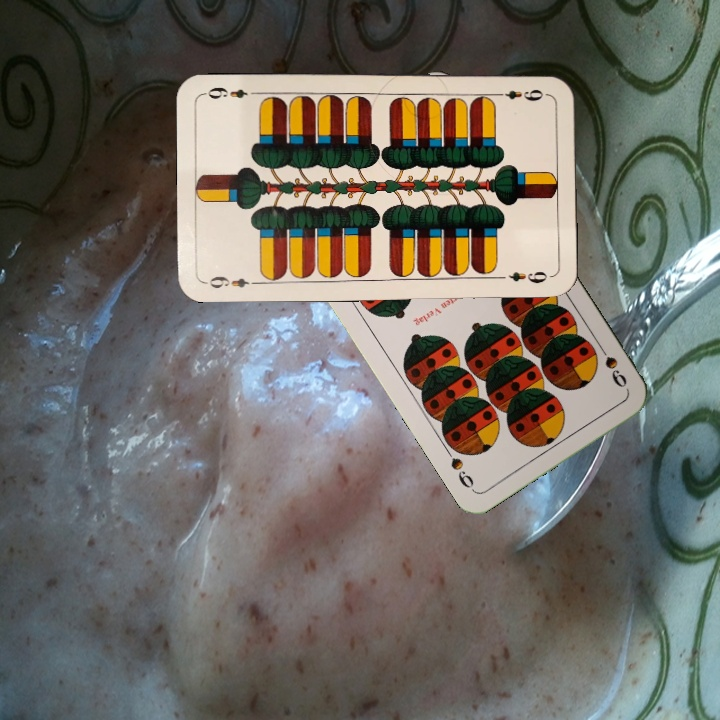E9: (202, 272, 261, 291), (491, 86, 550, 104)
S9: (593, 338, 630, 391)
